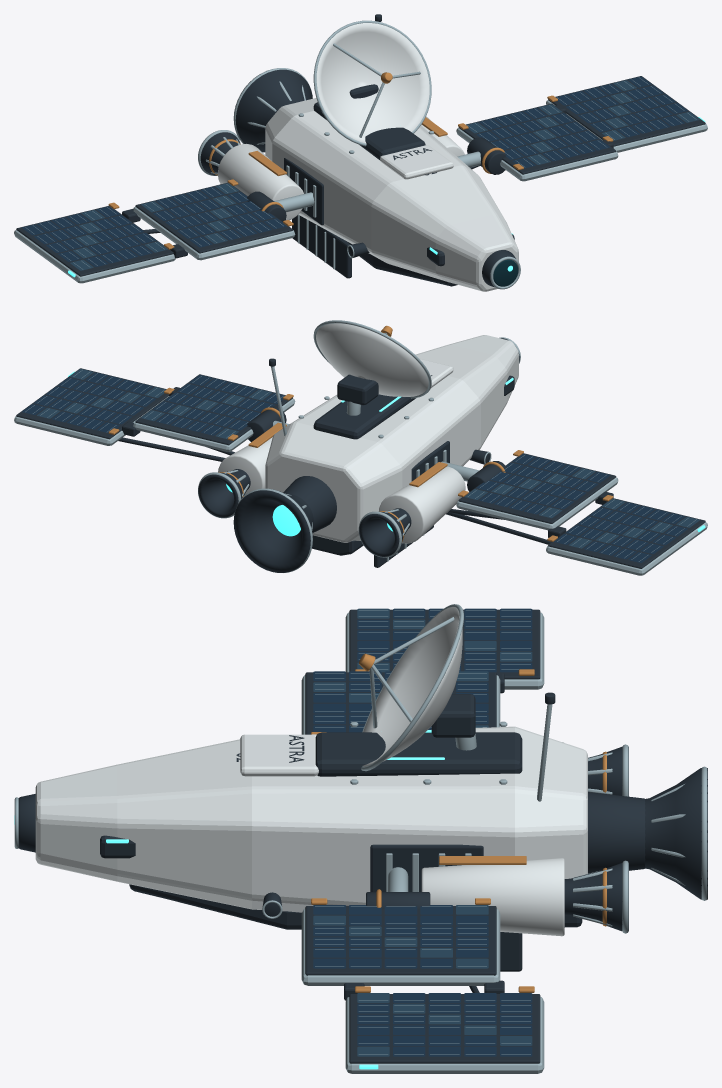
The model's file is astra-probe.glb.
3 renders of one model, top to bottom at view 1: azimuth 30°, elevation 25°; view 2: azimuth 150°, elevation 25°; view 3: azimuth 270°, elevation 25°, orthographic. The views are drawn at different scales.
Visible parts, largest first — view 1: AstraProbe; view 2: AstraProbe; view 3: AstraProbe.
Part boxes in pixels (x1,y1,x2,y2): AstraProbe: (14,14,707,291); AstraProbe: (14,320,707,575); AstraProbe: (14,604,707,1073).
Bounding box in the file's own units: 3.69 × 1.23 × 2.37.
